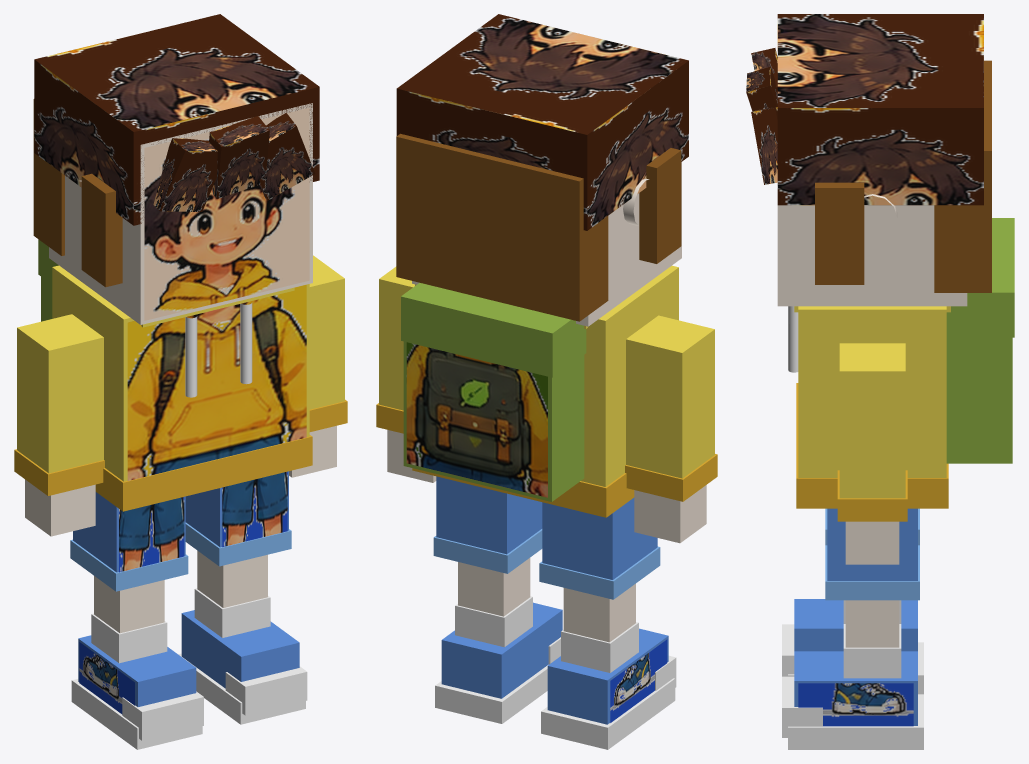
The model's file is kai.glb.
The picture shows the model from 3 angles, left to right: view 1: azimuth 30°, elevation 25°; view 2: azimuth 150°, elevation 25°; view 3: azimuth 270°, elevation 25°; orthographic projection. The views are drawn at different scales.
Parts seen in each view (by area): view 1: HairTopNode, TorsoFrontNode, FaceFrontNode, LA_Upper, HeadBoxNode, TorsoBoxNode, HoodieHemNode, R_SnkBox, RA_Upper, HairSideL, L_ShortsFront, R_ShortsFront (+25 smaller); view 2: HairTopNode, HairBackNode, BackpackBackNode, LA_Upper, BackpackFlapNode, TorsoBoxNode, L_ShortsBox, R_SnkBox, R_ShortsBox, BackpackBoxNode, HairSideL, L_SnkBox (+16 smaller); view 3: HairTopNode, TorsoBoxNode, HeadBoxNode, RA_Upper, BackpackBoxNode, HairBackNode, HairSideR, R_SnkSide, BackpackFlapNode, L_SnkBox, R_ShortsBox, R_SnkSole (+13 smaller).
Boxes of the visible parts, bbox=[...] form: HairTopNode: bbox=[34, 14, 319, 225]; TorsoFrontNode: bbox=[127, 284, 306, 480]; FaceFrontNode: bbox=[144, 107, 309, 320]; LA_Upper: bbox=[17, 314, 103, 473]; HeadBoxNode: bbox=[49, 103, 312, 324]; TorsoBoxNode: bbox=[52, 265, 309, 481]; HoodieHemNode: bbox=[95, 435, 312, 511]; R_SnkBox: bbox=[181, 610, 299, 688]; RA_Upper: bbox=[309, 255, 344, 409]; HairSideL: bbox=[81, 173, 122, 287]; L_ShortsFront: bbox=[119, 497, 184, 572]; R_ShortsFront: bbox=[222, 471, 287, 546]; HairTopNode: bbox=[396, 14, 688, 230]; HairBackNode: bbox=[396, 133, 608, 321]; BackpackBackNode: bbox=[406, 342, 547, 497]; LA_Upper: bbox=[626, 315, 714, 478]; BackpackFlapNode: bbox=[401, 282, 586, 377]; TorsoBoxNode: bbox=[415, 265, 678, 486]; L_ShortsBox: bbox=[542, 497, 657, 579]; R_SnkBox: bbox=[441, 602, 562, 698]; R_ShortsBox: bbox=[436, 476, 542, 554]; BackpackBoxNode: bbox=[403, 341, 584, 501]; HairSideL: bbox=[639, 148, 681, 263]; L_SnkBox: bbox=[547, 628, 668, 724]; HairTopNode: bbox=[777, 14, 983, 205]; TorsoBoxNode: bbox=[798, 306, 946, 477]; HeadBoxNode: bbox=[777, 205, 967, 306]; RA_Upper: bbox=[839, 343, 905, 498]; BackpackBoxNode: bbox=[946, 337, 1012, 463]; HairBackNode: bbox=[934, 60, 991, 292]; HairSideR: bbox=[815, 182, 864, 284]; R_SnkSide: bbox=[798, 683, 913, 726]; BackpackFlapNode: bbox=[946, 218, 1014, 337]; L_SnkBox: bbox=[794, 599, 917, 651]; R_ShortsBox: bbox=[827, 508, 917, 580]; R_SnkSole: bbox=[788, 694, 923, 749].
Size of the model in its own units: 0.87 by 1.73 by 0.6515.
15 materials, 6 textured.
